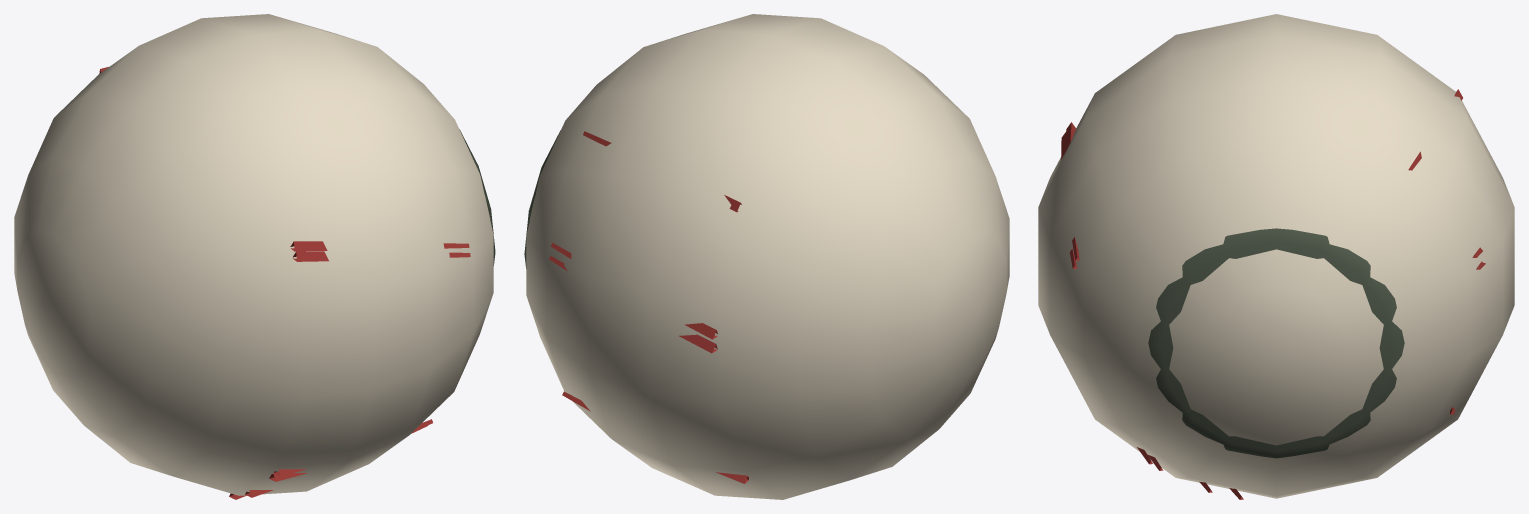
Rendered from wa_eye.glb.
3 renders of one model, left to right at view 1: azimuth 30°, elevation 25°; view 2: azimuth 150°, elevation 25°; view 3: azimuth 270°, elevation 25°, orthographic.
Visible parts, largest first — view 1: teil0, teil3; view 2: teil0, teil3; view 3: teil0, teil1, teil3.
Part boxes in pixels (x1,y1,x2,y2): teil0: (14,14,493,495); teil3: (99,67,470,499); teil0: (526,14,1009,499); teil3: (549,131,748,483); teil0: (1038,14,1514,498); teil1: (1148,228,1404,458); teil3: (1061,89,1485,499).
Size of the model in its own units: 0.0401 by 0.04 by 0.039.
